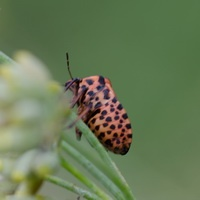insect: (65, 53, 131, 154)
